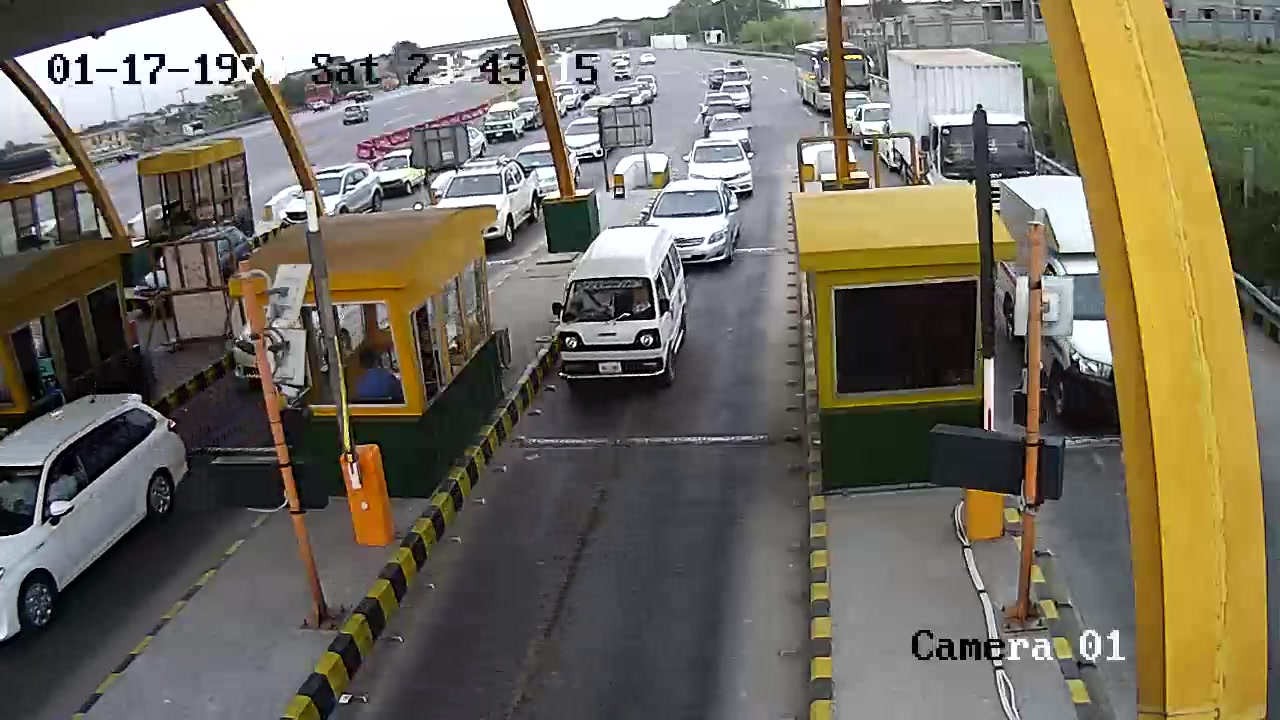F1: (560, 219, 691, 403)
